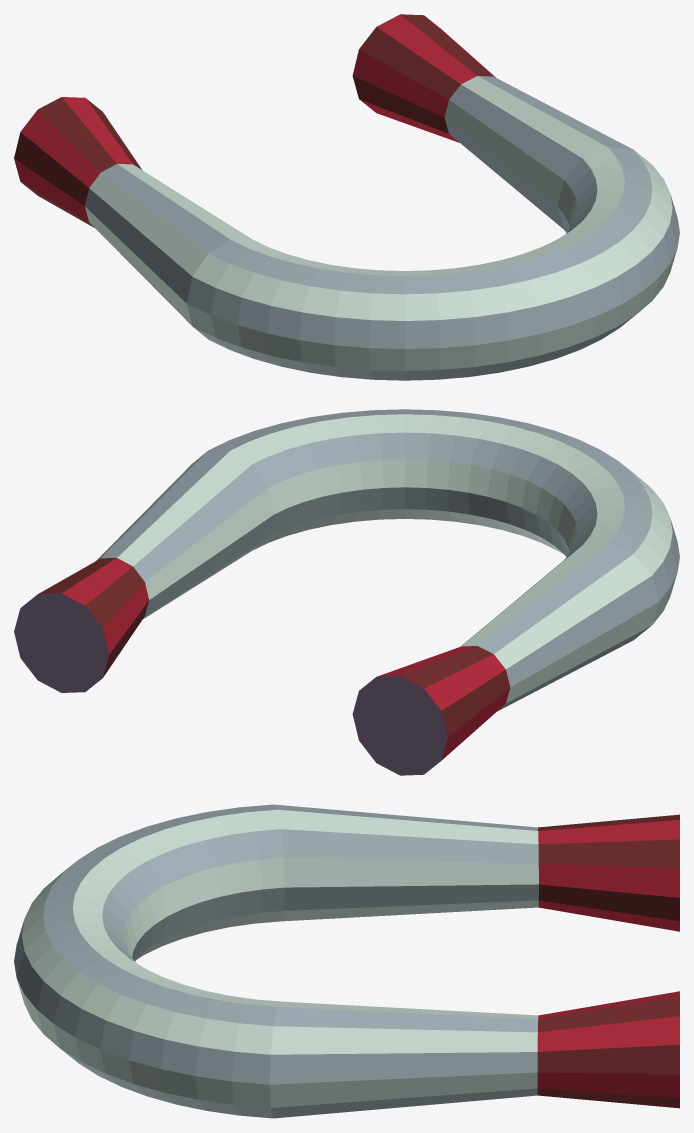
Rendered from Magnette.glb.
The picture shows the model from 3 angles, top to bottom: view 1: azimuth 30°, elevation 25°; view 2: azimuth 150°, elevation 25°; view 3: azimuth 270°, elevation 25°; orthographic projection. The views are drawn at different scales.
Visible parts, largest first — view 1: Magnet; view 2: Magnet; view 3: Magnet.
Part boxes in pixels (x1=…): Magnet: x1=14, y1=14, x2=679, y2=380; Magnet: x1=14, y1=409, x2=679, y2=775; Magnet: x1=14, y1=804, x2=679, y2=1118.
Size of the model in its own units: 2.48 by 0.5 by 2.83.
1 material, 1 textured.
